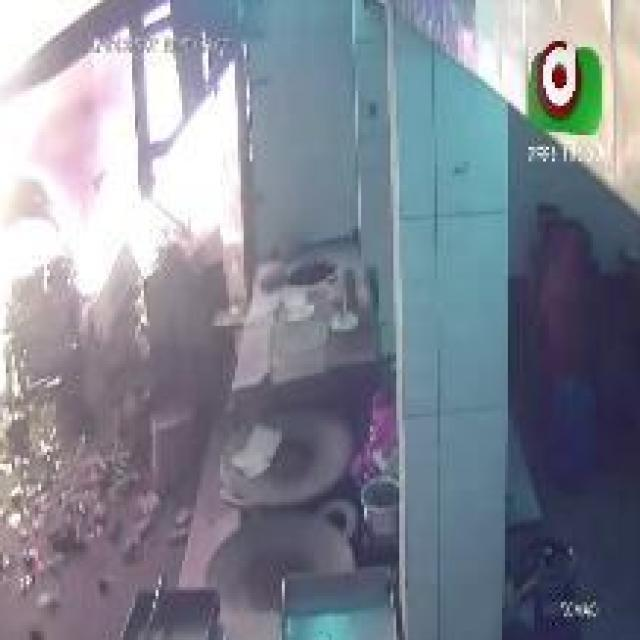smoke: (61, 38, 238, 323), (0, 0, 97, 426)
